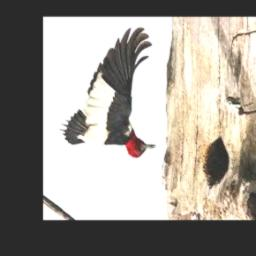Woodpecker: (58, 27, 155, 158)
